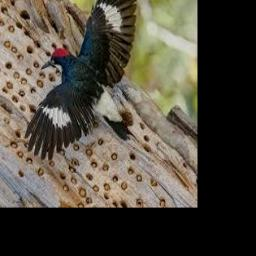Woodpecker: (24, 0, 139, 160)
